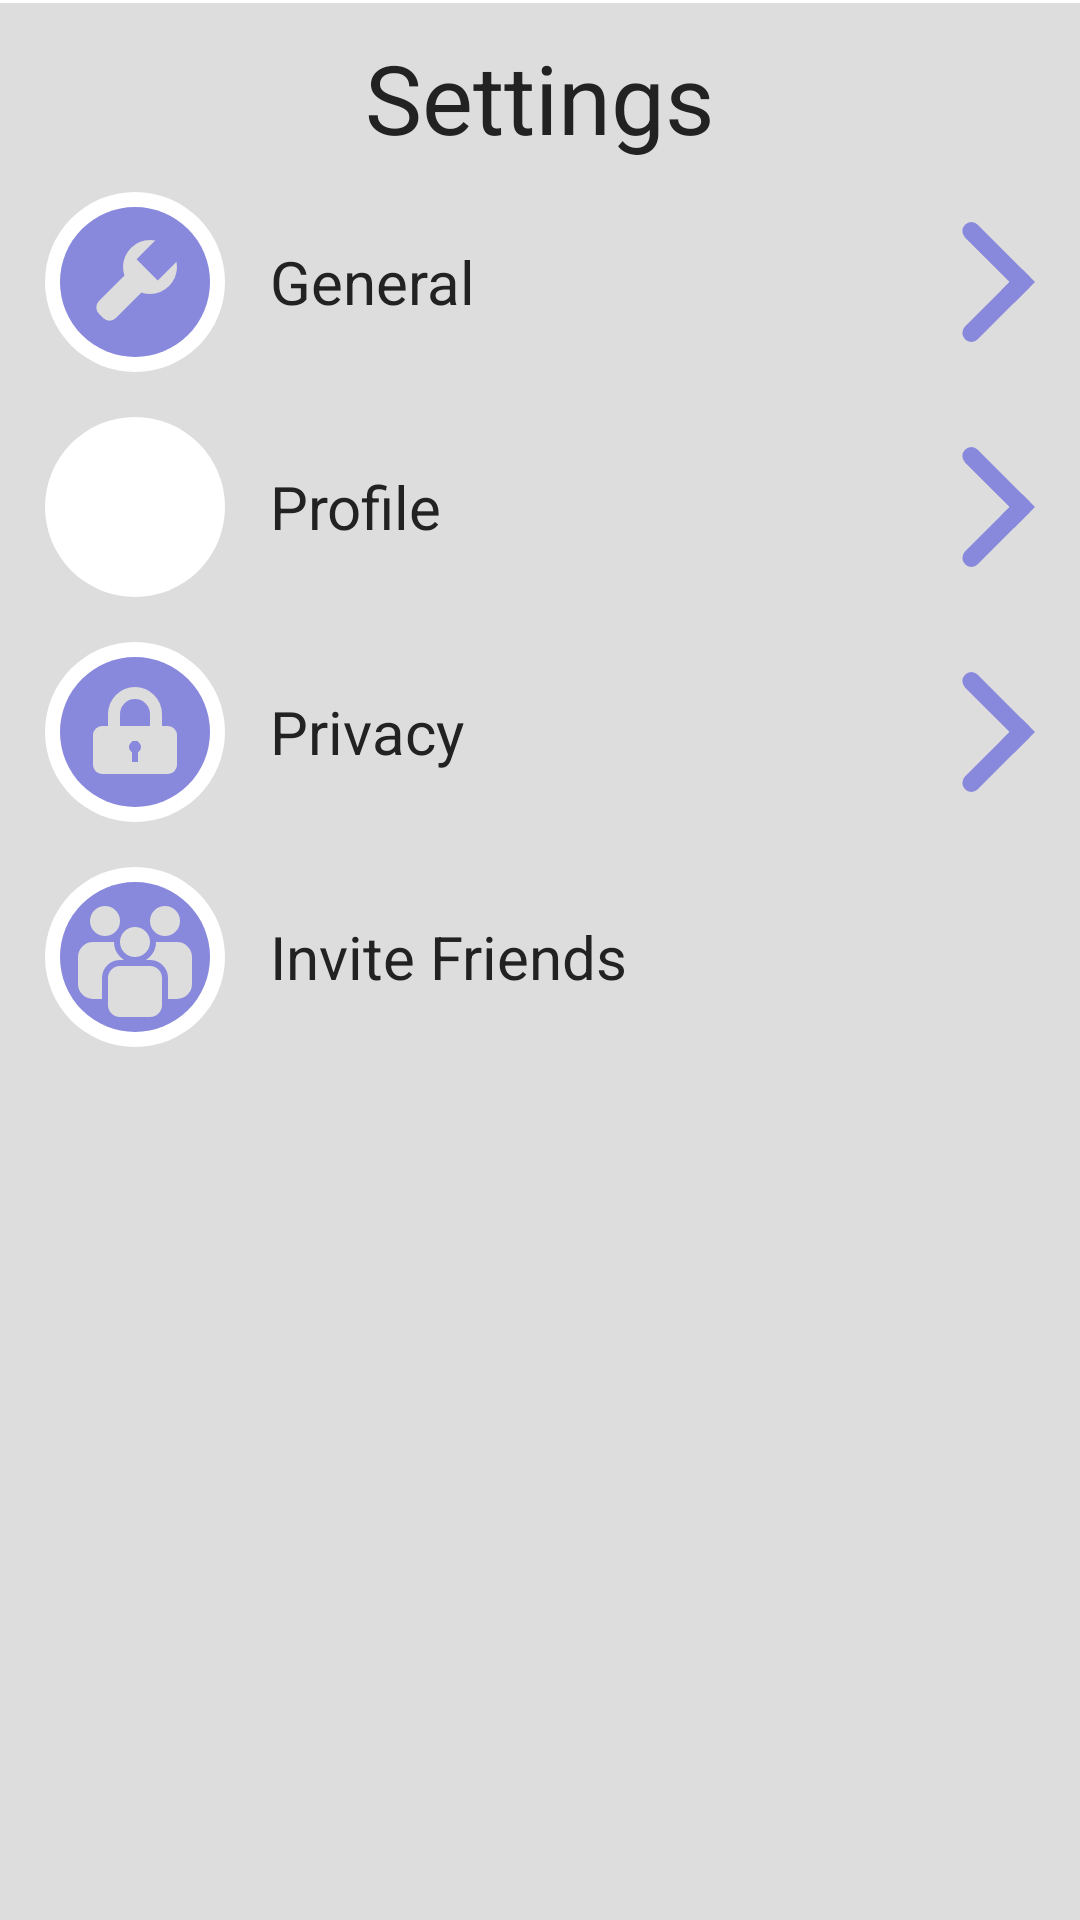

Point at icon controls on the screen. Image size 1080x1920, points as (x,y).
spanner: (135,282)
